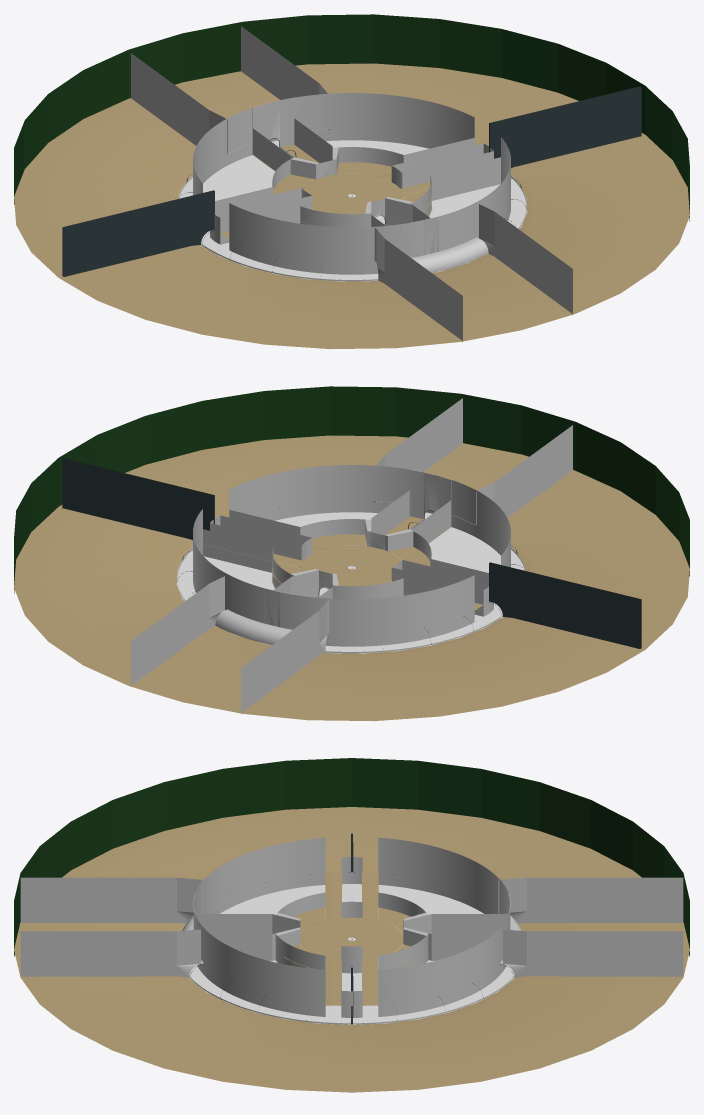
The model's file is fish_environment_1_4.glb.
3 views of the same model, one above another, from view 1: azimuth 30°, elevation 25°; view 2: azimuth 150°, elevation 25°; view 3: azimuth 270°, elevation 25° (orthographic).
Visible parts, largest first — view 1: big pond floor, boundary.002, storage.010, big tank walks.002, big_tank_divider.004, walking floor, tilapia_tank floor.001, parallel wall.004, tunnel_wall.004, tilapia_tank_wall.008; view 2: big pond floor, boundary.002, storage.010, big tank walks.002, big_tank_divider.004, walking floor, tilapia_tank floor.001, parallel wall.004, tunnel_wall.004, tilapia_tank_wall.008; view 3: big pond floor, big tank walks.002, storage.010, boundary.002, tilapia_tank floor.001, walking floor, parallel wall.004, tilapia_tank_wall.008, short lip outer.
Part boxes in pixels (x1=…): big pond floor: x1=14, y1=63, x2=689, y2=349; boundary.002: x1=14, y1=14, x2=689, y2=221; storage.010: x1=193, y1=93, x2=510, y2=274; big tank walks.002: x1=131, y1=26, x2=572, y2=341; big_tank_divider.004: x1=62, y1=86, x2=641, y2=276; walking floor: x1=179, y1=140, x2=527, y2=281; tilapia_tank floor.001: x1=220, y1=162, x2=499, y2=238; parallel wall.004: x1=210, y1=143, x2=493, y2=244; tunnel_wall.004: x1=252, y1=97, x2=451, y2=257; tilapia_tank_wall.008: x1=290, y1=147, x2=413, y2=227; big pond floor: x1=14, y1=435, x2=689, y2=721; boundary.002: x1=14, y1=386, x2=689, y2=593; storage.010: x1=193, y1=465, x2=510, y2=646; big tank walks.002: x1=131, y1=398, x2=572, y2=713; big_tank_divider.004: x1=62, y1=458, x2=641, y2=648; walking floor: x1=176, y1=512, x2=524, y2=653; tilapia_tank floor.001: x1=204, y1=534, x2=483, y2=610; parallel wall.004: x1=210, y1=515, x2=493, y2=616; tunnel_wall.004: x1=252, y1=469, x2=451, y2=629; tilapia_tank_wall.008: x1=290, y1=519, x2=413, y2=599; big pond floor: x1=14, y1=807, x2=689, y2=1092; big tank walks.002: x1=20, y1=877, x2=683, y2=977; storage.010: x1=195, y1=837, x2=508, y2=1016; boundary.002: x1=14, y1=758, x2=689, y2=956; tilapia_tank floor.001: x1=284, y1=872, x2=419, y2=1005; walking floor: x1=189, y1=884, x2=514, y2=1024; parallel wall.004: x1=341, y1=857, x2=362, y2=1017; tilapia_tank_wall.008: x1=275, y1=912, x2=428, y2=962; short lip outer: x1=189, y1=976, x2=514, y2=1024.
Size of the model in its own units: 128 by 11.98 by 128.
